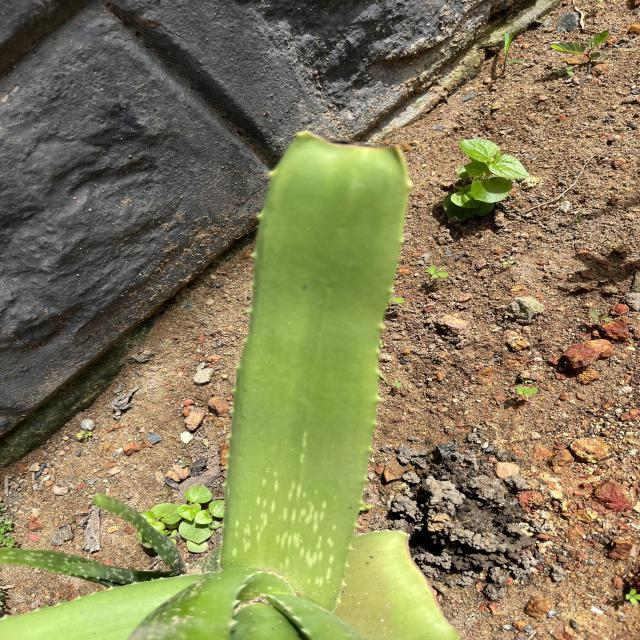Aloe vera: (214, 124, 416, 619)
